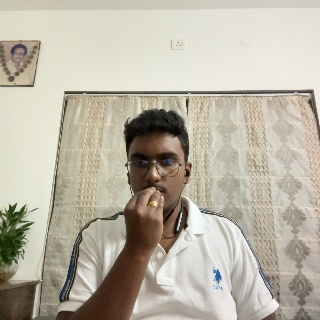Food: (123, 187, 166, 270)
